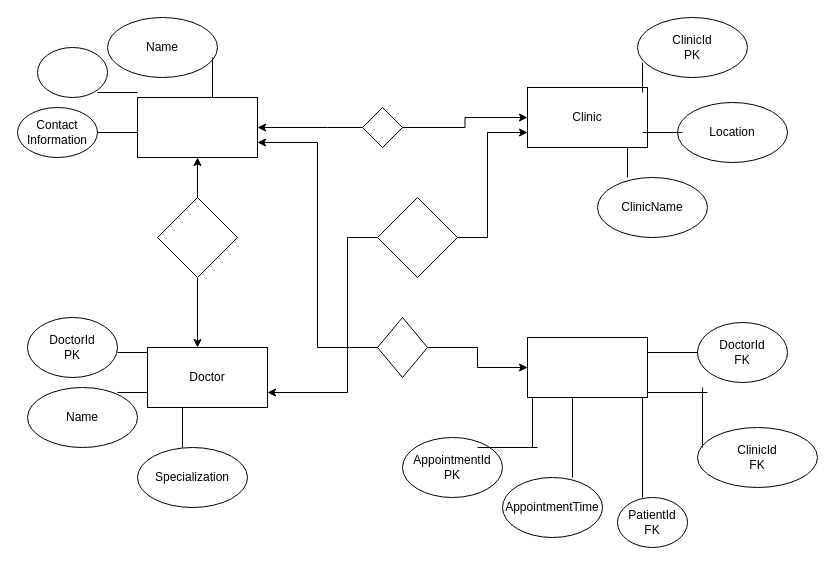
Some shapes in this 835 by 565 pixel diagram are drawn without their labels. Here are the shapes that lost their labels. From the top down, the centre of each, then its label:
the point at 72,72: PatientId PK
the point at 197,127: Patient
the point at 587,367: Appointment
